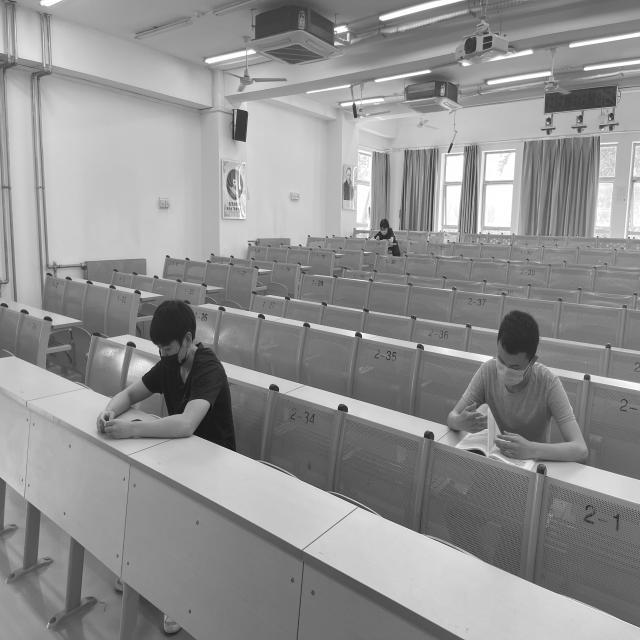phone: (98, 301, 231, 438)
study: (447, 310, 591, 462), (373, 220, 396, 239)
